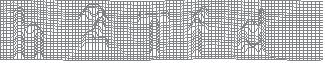2: (76, 1, 112, 52)
T: (136, 11, 172, 56)
d: (236, 7, 267, 57)
f: (184, 6, 211, 57)
h: (12, 6, 46, 62)
